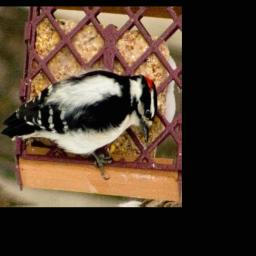Woodpecker: (1, 71, 158, 181)
